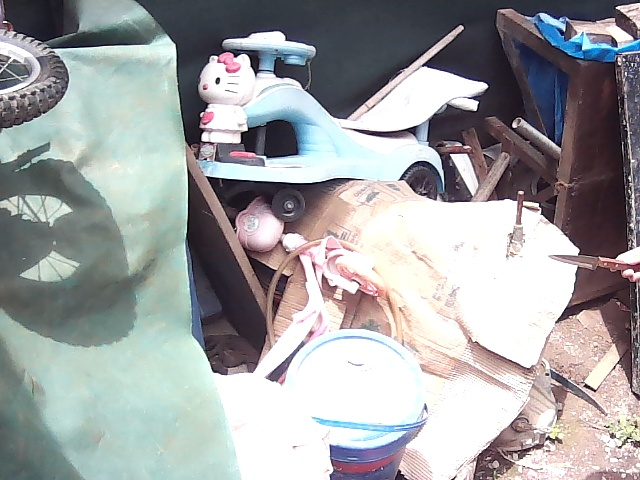cuchillo: (543, 247, 628, 277)
